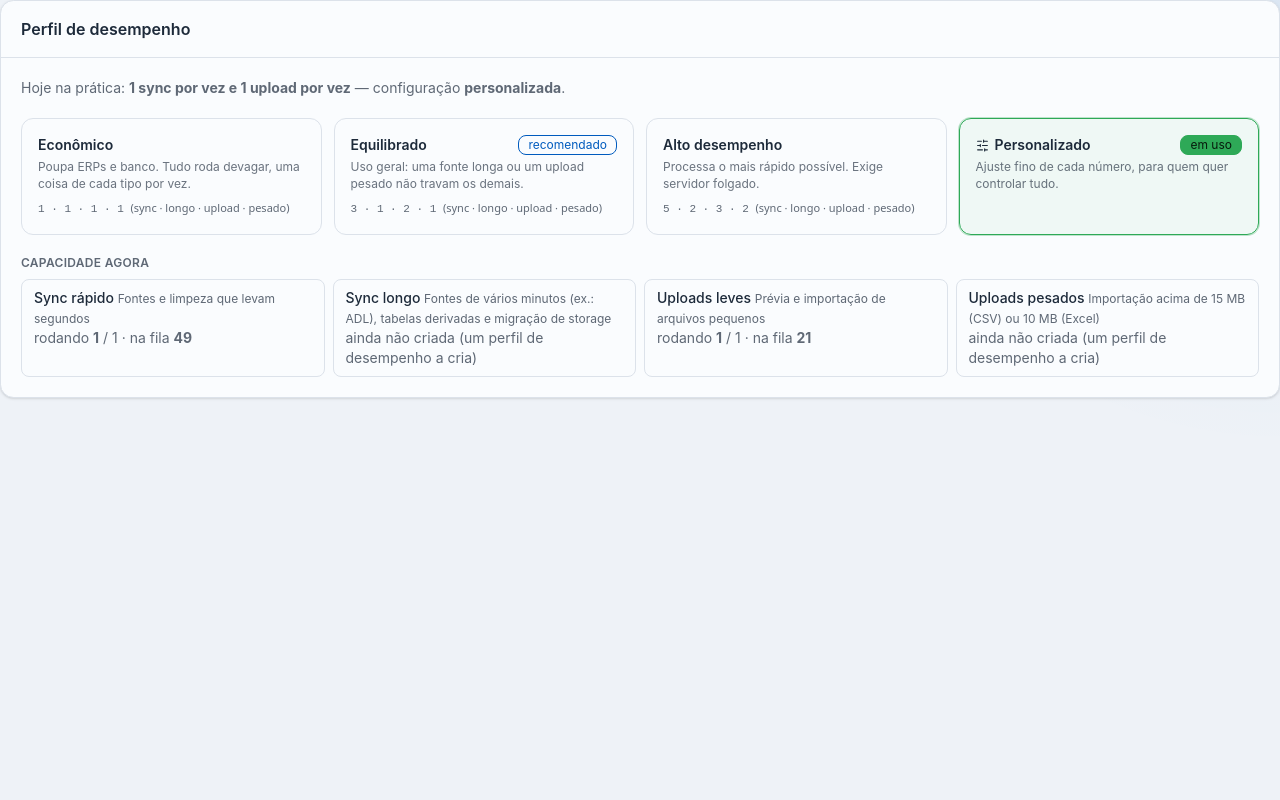
Scenario: WorkerPresets › avisa quando a memória de pico estimada passa do limite informado
Click the button "Alto desempenho" at (796, 176), box [646,118,946,234]
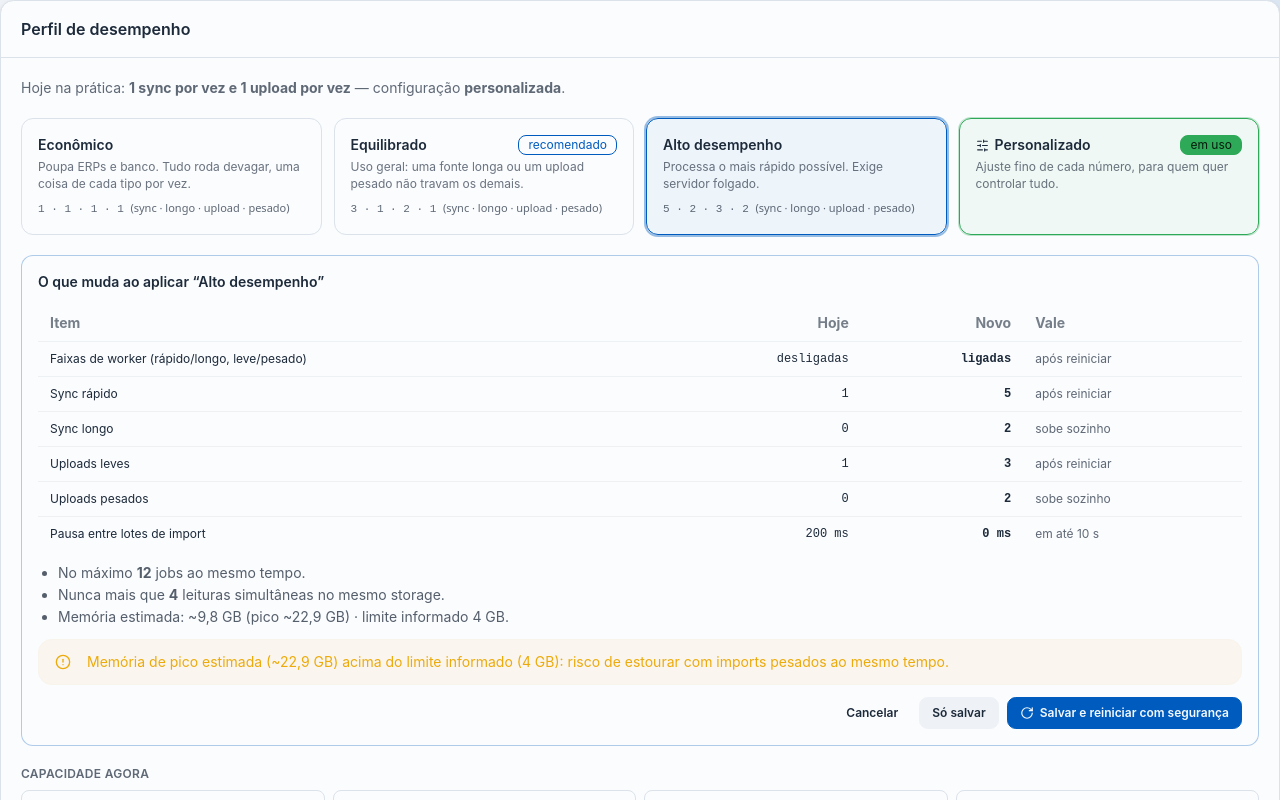
Now the text "Memória de pico estimada" is shown, box [87,652,949,670]
